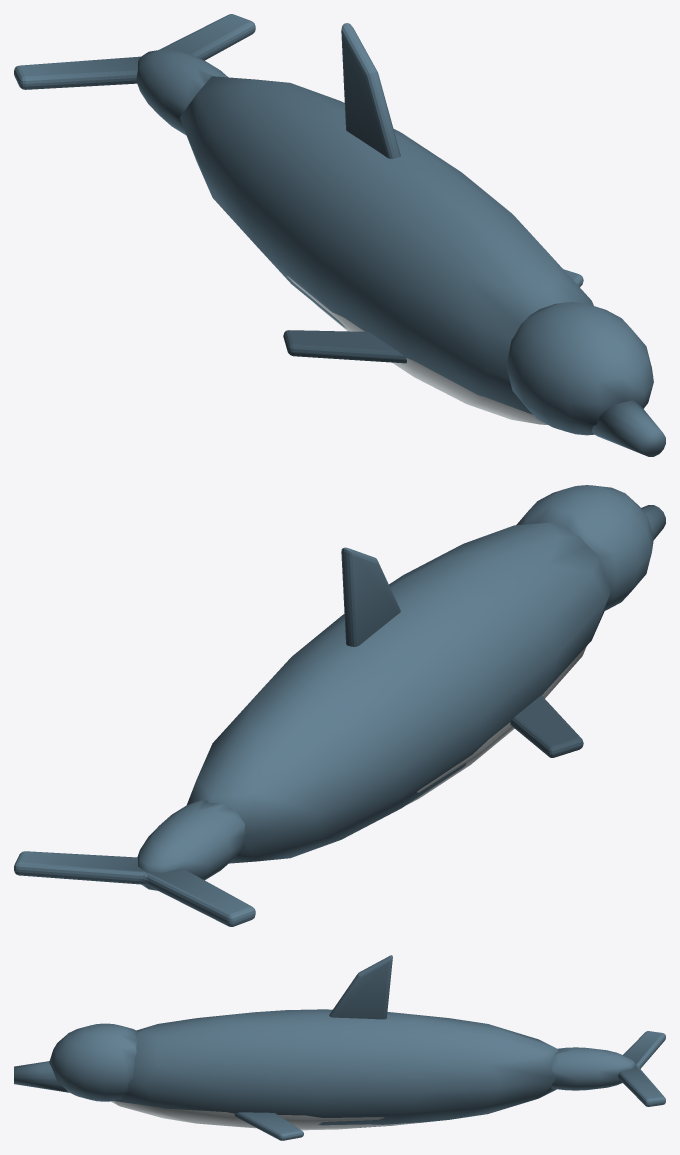
Rendered from dolphin.glb.
The picture shows the model from 3 angles, top to bottom: view 1: azimuth 30°, elevation 25°; view 2: azimuth 150°, elevation 25°; view 3: azimuth 270°, elevation 25°; orthographic projection. The views are drawn at different scales.
Visible parts, largest first — view 1: dolphin_mesh, tail_mesh; view 2: dolphin_mesh, tail_mesh; view 3: dolphin_mesh, tail_mesh.
Part boxes in pixels (x1=…): dolphin_mesh: x1=180, y1=23, x2=665, y2=456; tail_mesh: x1=14, y1=14, x2=255, y2=135; dolphin_mesh: x1=187, y1=485, x2=665, y2=863; tail_mesh: x1=14, y1=800, x2=255, y2=926; dolphin_mesh: x1=14, y1=955, x2=558, y2=1140; tail_mesh: x1=551, y1=1031, x2=665, y2=1106.
Size of the model in its own units: 0.5942 by 0.5318 by 1.86.
